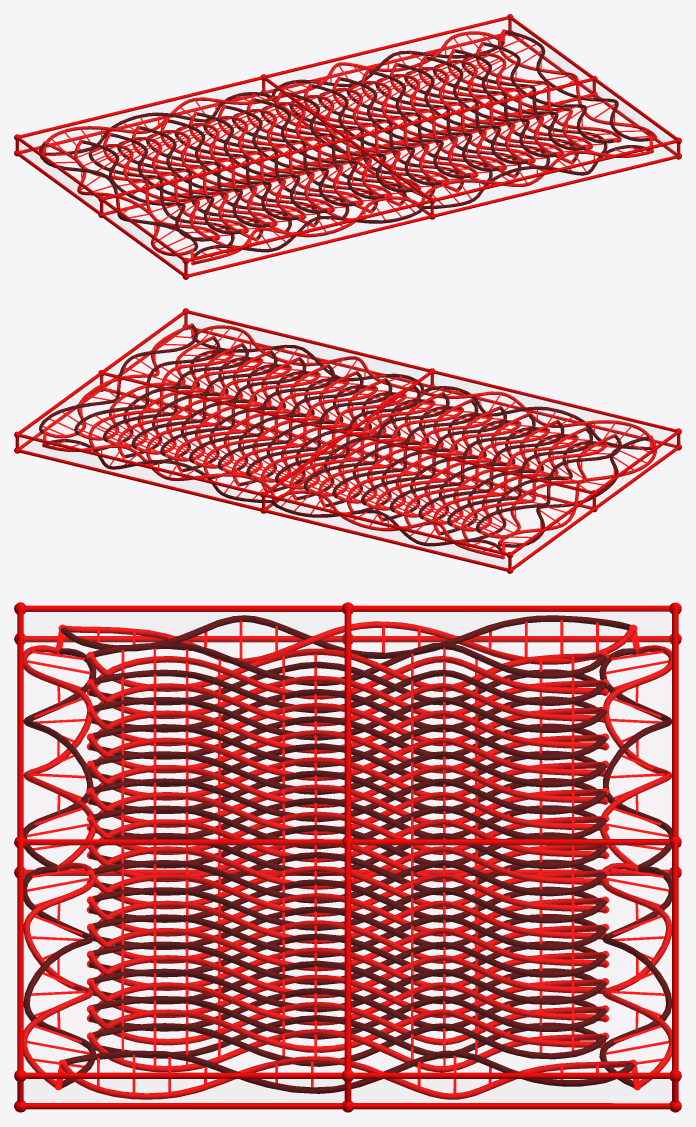
The model's file is merged-red-v85.glb.
3 renders of one model, top to bottom at view 1: azimuth 30°, elevation 25°; view 2: azimuth 150°, elevation 25°; view 3: azimuth 270°, elevation 25°, orthographic. The views are drawn at different scales.
Parts seen in each view (by area): view 1: 4; view 2: 4; view 3: 4.
Boxes of the visible parts, x1,y1,x2,y2 form: 4: (14, 14, 681, 279); 4: (14, 308, 681, 573); 4: (14, 602, 681, 1112).
Size of the model in its own units: 6.95 by 0.2899 by 4.15.
Materials: 1 (1 with a texture image).
